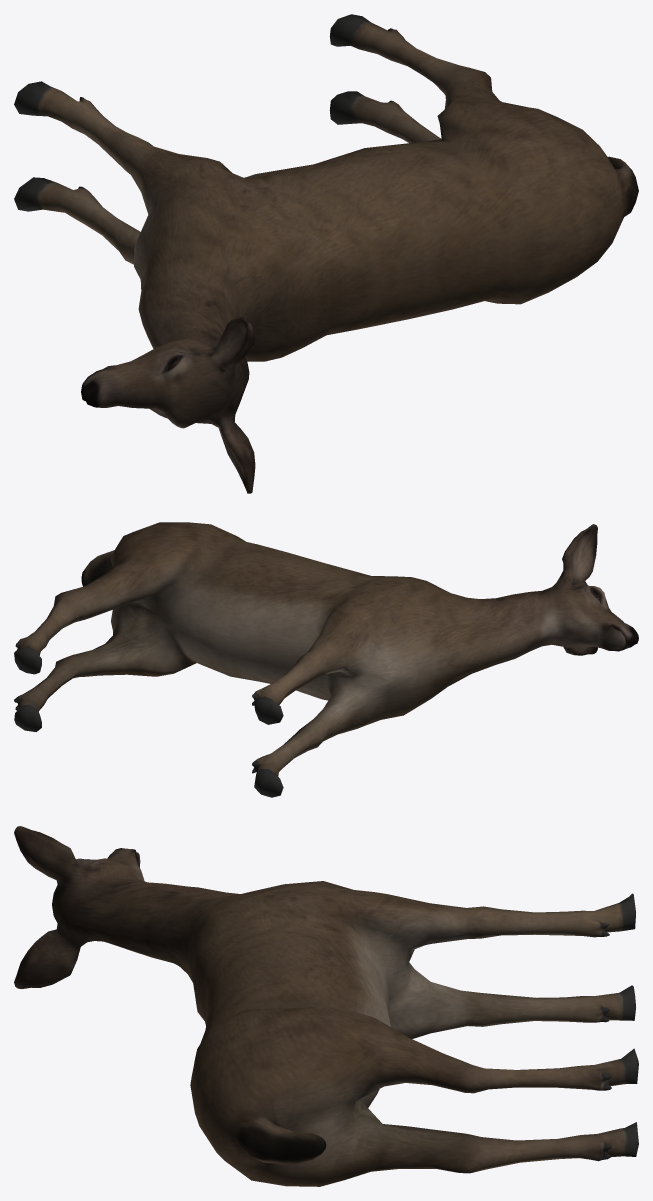
File: deer.obj
3 views of the same model, one above another, from view 1: azimuth 30°, elevation 25°; view 2: azimuth 150°, elevation 25°; view 3: azimuth 270°, elevation 25° (orthographic). The views are drawn at different scales.
Parts seen in each view (by area): view 1: Object_7_Object_0; view 2: Object_7_Object_0; view 3: Object_7_Object_0.
Part boxes in pixels (box(x1,y1,x2,y2)): Object_7_Object_0: box(14, 14, 638, 493); Object_7_Object_0: box(14, 522, 638, 797); Object_7_Object_0: box(14, 826, 638, 1186).
Size of the model in its own units: 1.28 by 0.3276 by 1.14.
